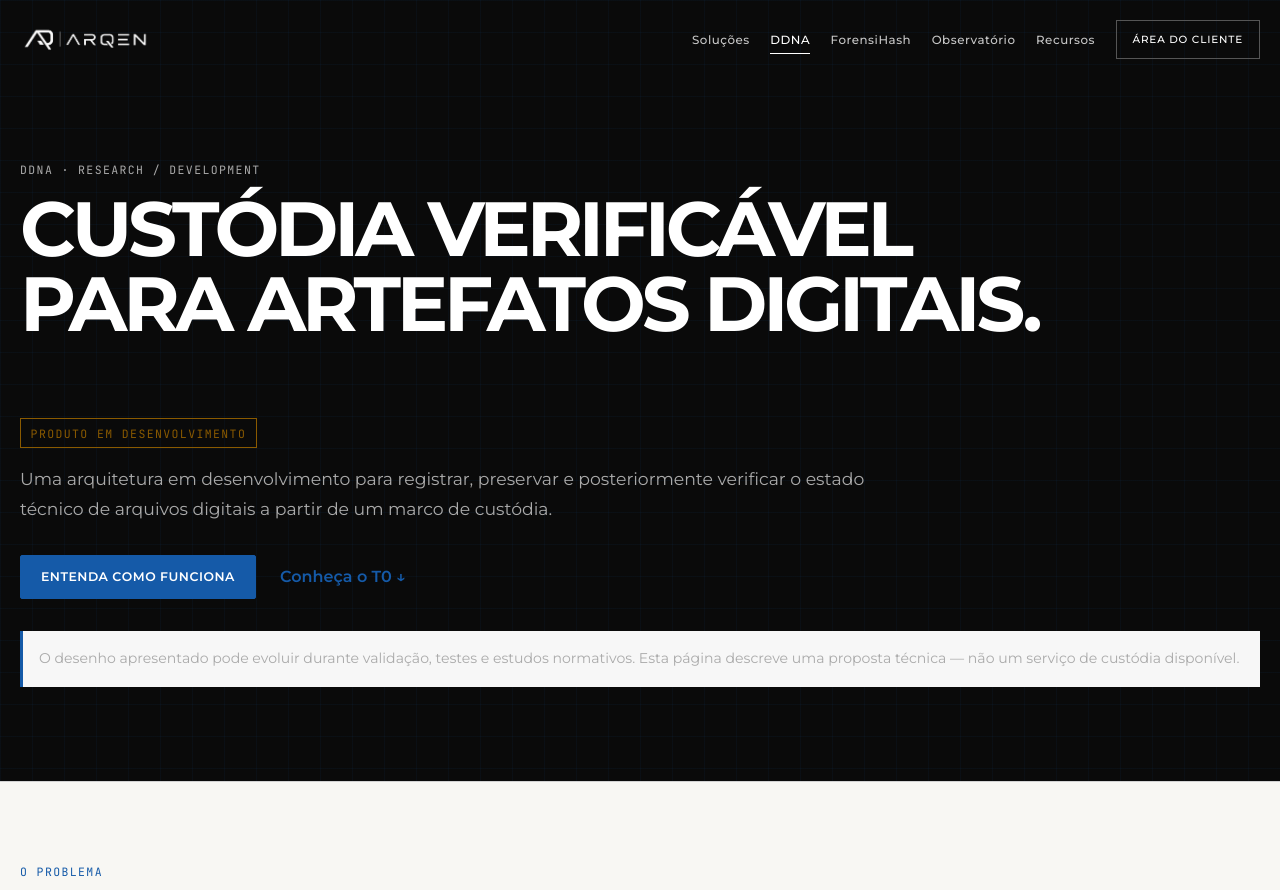
navegação pública › o logo navega para a página inicial
Click the link named "ARQEN — página inicial" at (86, 40), box [20, 20, 152, 58]
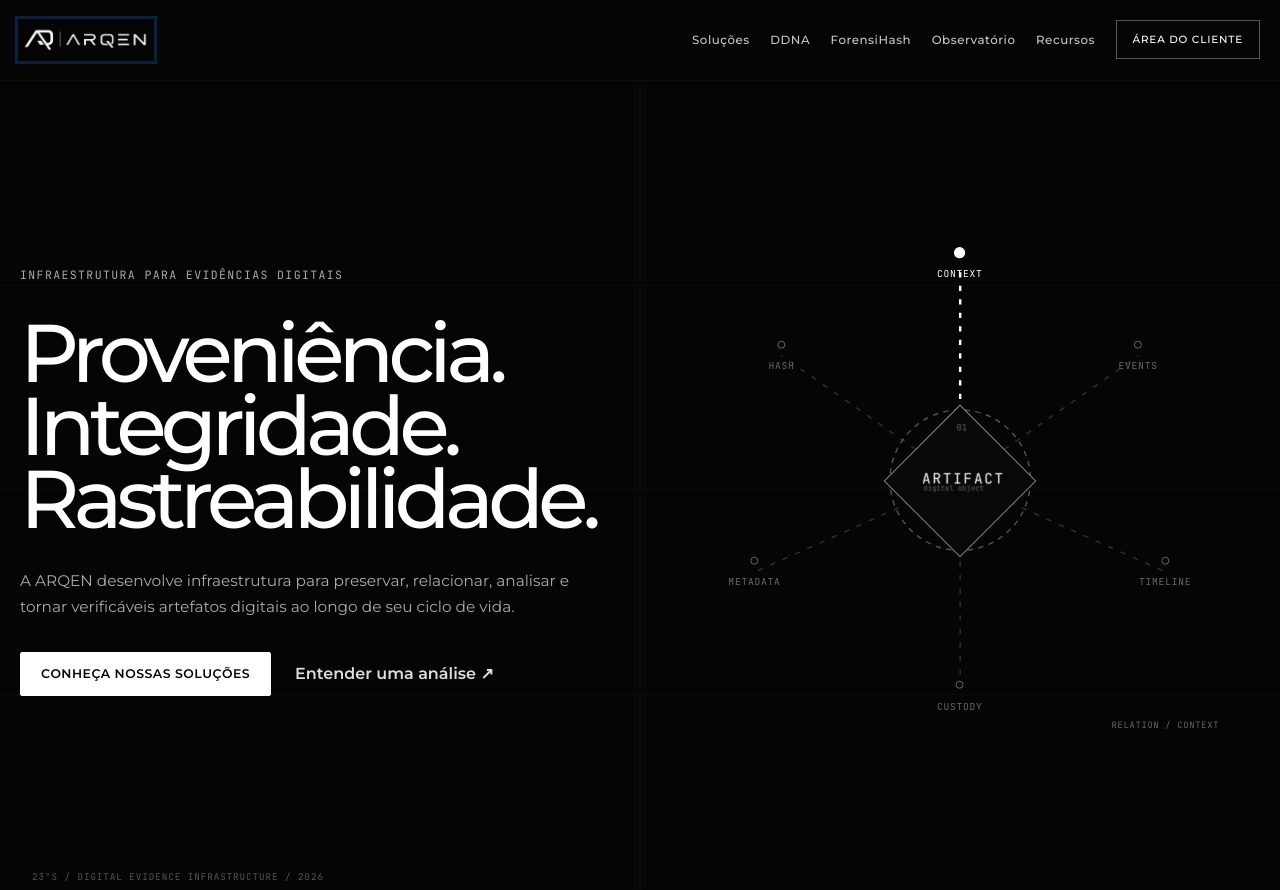
Result: the heading "Proveniência.Integridade.Rastreabilidade." is shown at [20, 317, 596, 536]
